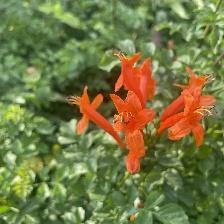honeysuckle: (111, 90, 157, 177)
